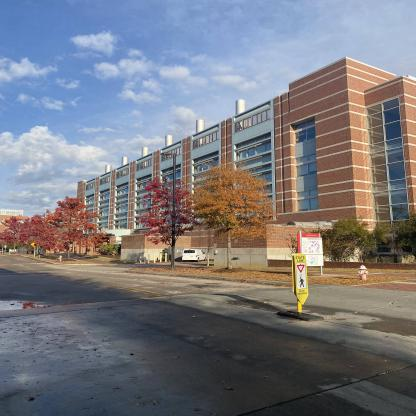EB-1: (71, 59, 415, 269)
